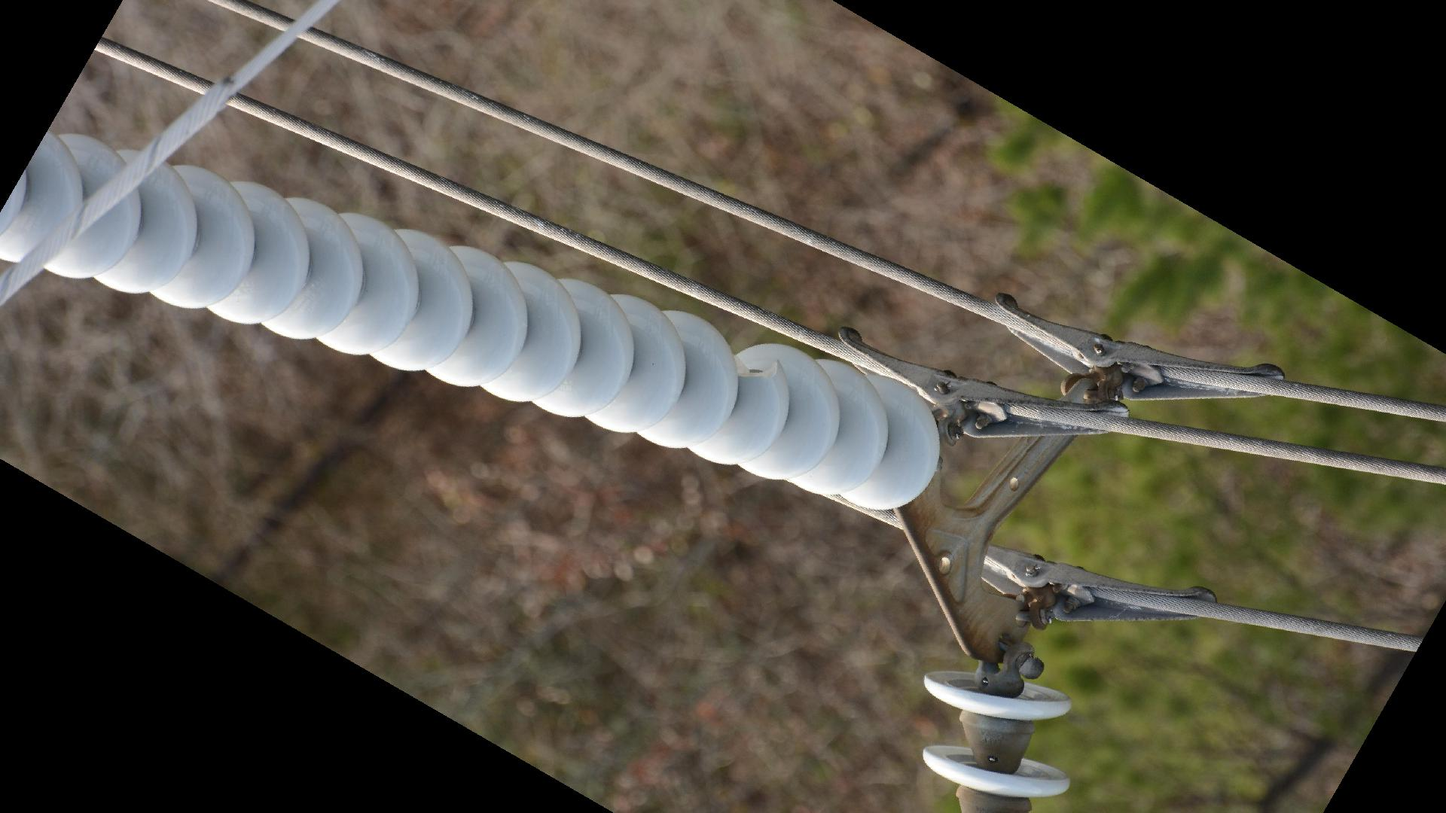insulator: (1, 128, 949, 517), (911, 659, 1076, 813)
insulator_breakage: (731, 350, 785, 394)
